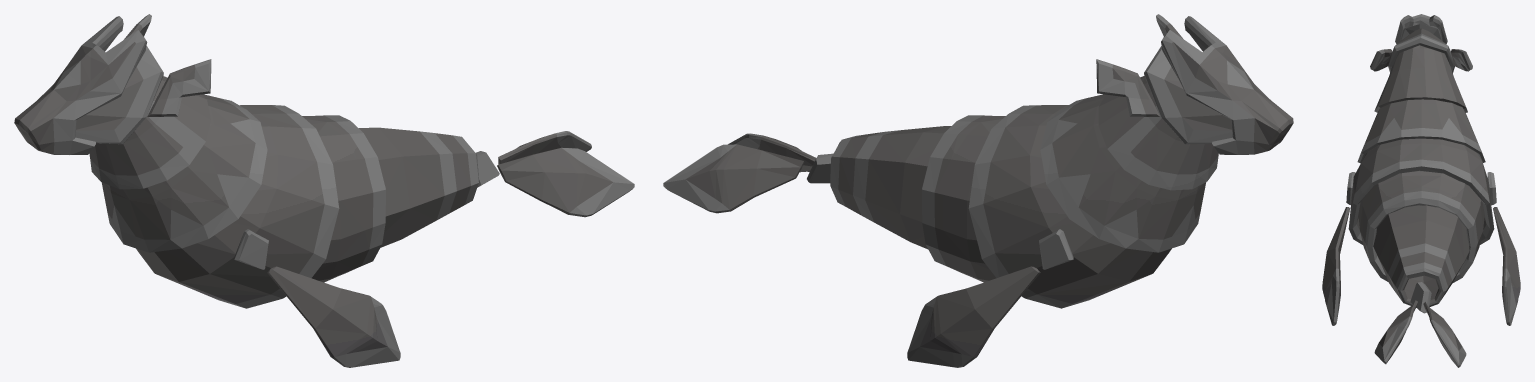
Rendered from CharSkyKid_Prop_ColorKiteLighthorn.glb.
3 views of the same model, side by side, from view 1: azimuth 30°, elevation 25°; view 2: azimuth 150°, elevation 25°; view 3: azimuth 270°, elevation 25° (orthographic). The views are drawn at different scales.
Visible parts, largest first — view 1: CharSkyKid_Prop_ColorKiteLighthorn; view 2: CharSkyKid_Prop_ColorKiteLighthorn; view 3: CharSkyKid_Prop_ColorKiteLighthorn.
Part boxes in pixels (x1,y1,x2,y2): CharSkyKid_Prop_ColorKiteLighthorn: (14,14,634,367); CharSkyKid_Prop_ColorKiteLighthorn: (663,14,1293,367); CharSkyKid_Prop_ColorKiteLighthorn: (1322,14,1520,367).
Bounding box in the file's own units: 46.2 × 25.22 × 18.85.
Materials: 1 (1 with a texture image).
